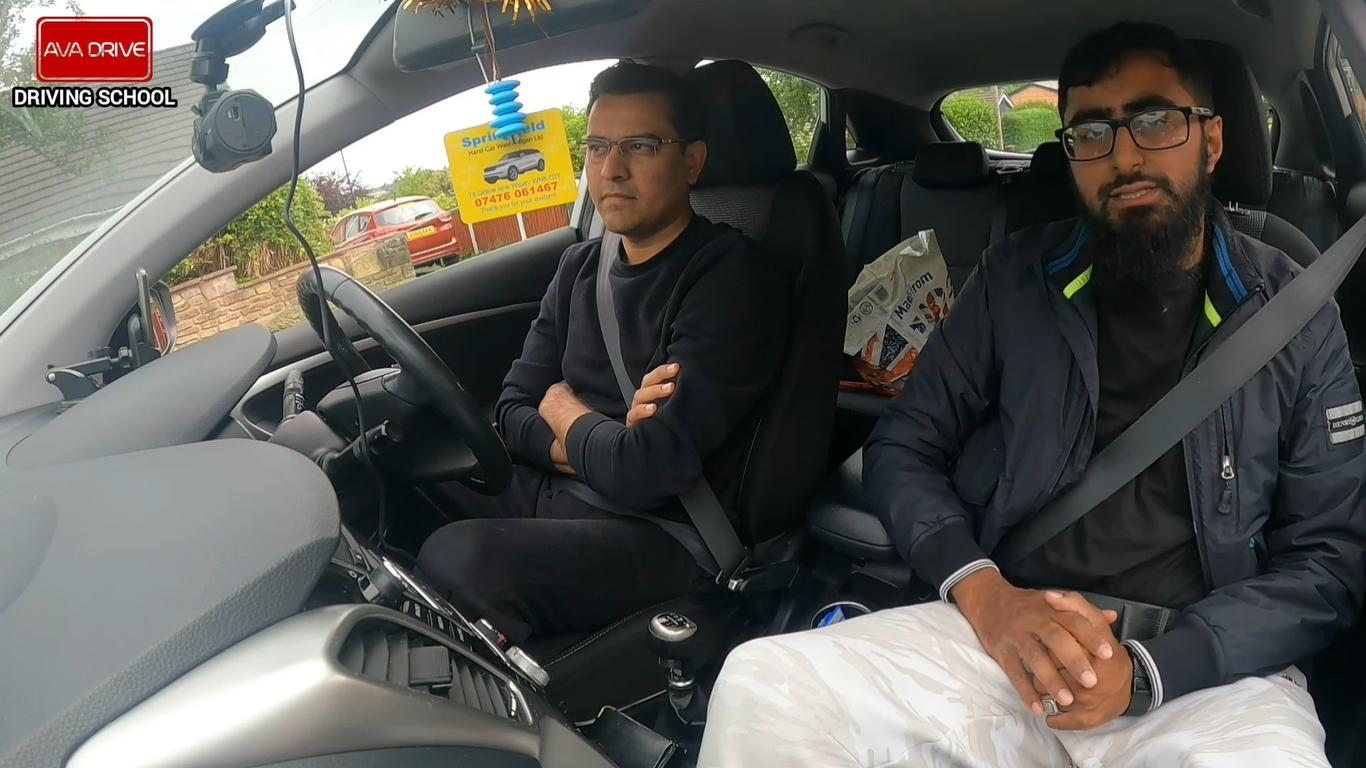seatbelt: (1050, 295, 1316, 531), (547, 234, 683, 484)
